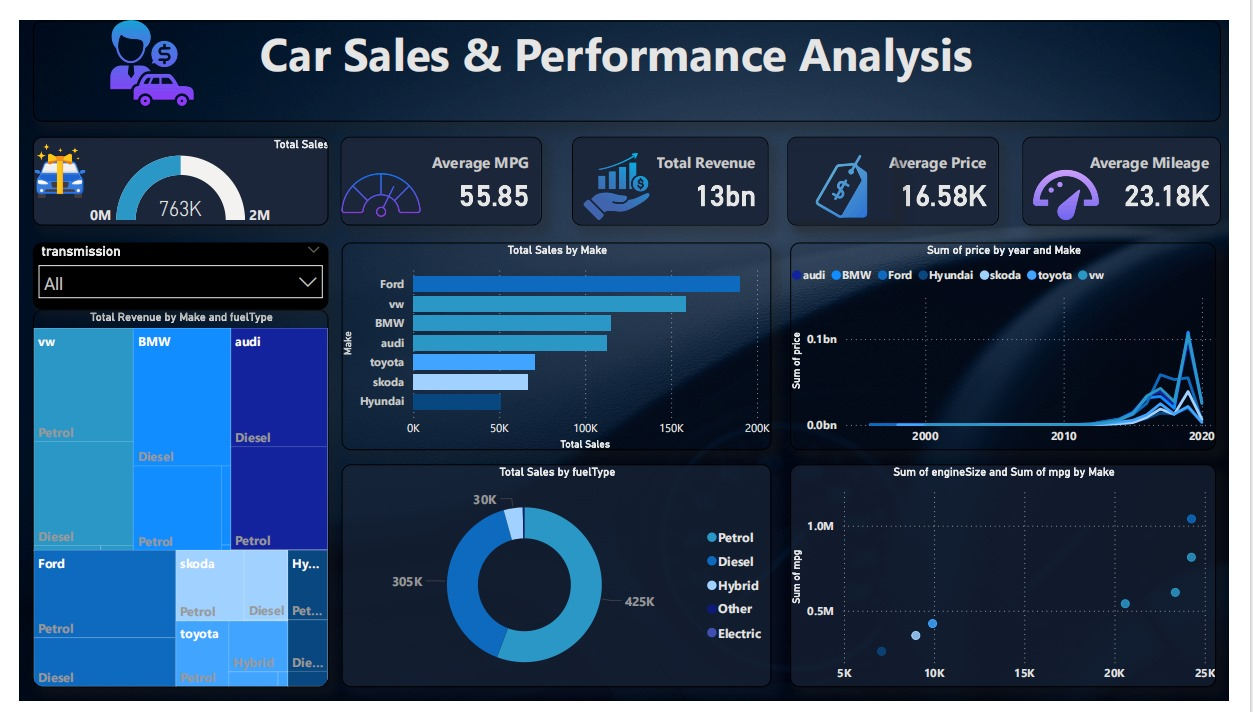

What the dashboard file says about the page in this screenshot:
{"tool":"powerbi","page":{"name":"Page 1","canvas":[1280,720],"ordinal":0},"visuals":[{"type":"barChart","fields":{"Category":["cars.Make"],"Y":["cars.Total Sales"]},"box":[340.9,235.2,455.1,219.9],"z":0},{"type":"donutChart","fields":{"Category":["cars.fuelType"],"Y":["cars.Total Sales"]},"box":[340.9,470.5,455.1,235.2],"z":1000},{"type":"lineChart","fields":{"Category":["cars.year"],"Y":["Sum(cars.price)"],"Series":["cars.Make"]},"box":[816.5,235.2,450,219.9],"z":2000},{"type":"scatterChart","fields":{"X":["Sum(cars.engineSize)"],"Y":["Sum(cars.mpg)"],"Category":["cars.Make"]},"box":[816.5,470.5,450,235.2],"z":3000},{"type":"treemap","fields":{"Values":["cars.Total Revenue"],"Details":["cars.fuelType"],"Group":["cars.Make"]},"box":[13.7,306.1,312.9,399.7],"z":4000},{"type":"gauge","fields":{"Y":["cars.Total Sales"]},"box":[13.7,123.3,312.9,93.6],"z":5000},{"type":"cardVisual","fields":{"Data":["cars.Total Revenue"]},"box":[584.7,123.3,207.8,93.6],"z":6000},{"type":"cardVisual","fields":{"Data":["cars.Average Price"]},"box":[813.1,123.3,223.8,93.6],"z":7000},{"type":"cardVisual","fields":{"Data":["cars.Average MPG"]},"box":[340.3,123.3,212.4,93.6],"z":8000},{"type":"cardVisual","fields":{"Data":["cars.Average Mileage"]},"box":[1062.1,123.3,210.1,93.6],"z":9000},{"type":"textbox","box":[13.7,0,1258.5,107.3],"z":10000},{"type":"image","box":[0,122.6,84.6,72.5],"z":11000},{"type":"image","box":[1062.3,150.3,91.5,69.1],"z":12000},{"type":"image","box":[341.4,138.7,82.3,91.4],"z":13000},{"type":"image","box":[585.3,140.2,93,71.6],"z":14000},{"type":"image","box":[813.6,139.9,112.3,72.5],"z":15000},{"type":"image","box":[13.6,0,252.3,90.3],"z":16000},{"type":"slicer","fields":{"Values":["cars.transmission"]},"box":[13.7,235.3,312.9,70.8],"z":16001}]}

Visuals, with their boxes in screenshot pixels (x1, y1, x2, y2), scaled from the page's 1280x720 canvas onto the 1253x712 screenshot:
barChart - cars.Make x cars.Total Sales: region(334, 233, 779, 450)
donutChart - cars.fuelType x cars.Total Sales: region(334, 465, 779, 698)
lineChart - cars.year x Sum(cars.price): region(799, 233, 1240, 450)
scatterChart - Sum(cars.engineSize) x Sum(cars.mpg): region(799, 465, 1240, 698)
treemap - cars.Total Revenue x cars.fuelType: region(13, 303, 320, 698)
gauge - cars.Total Sales: region(13, 122, 320, 214)
cardVisual - cars.Total Revenue: region(572, 122, 776, 214)
cardVisual - cars.Average Price: region(796, 122, 1015, 214)
cardVisual - cars.Average MPG: region(333, 122, 541, 214)
cardVisual - cars.Average Mileage: region(1040, 122, 1245, 214)
textbox: region(13, 0, 1245, 106)
image: region(0, 121, 83, 193)
image: region(1040, 149, 1129, 217)
image: region(334, 137, 415, 228)
image: region(573, 139, 664, 209)
image: region(796, 138, 906, 210)
image: region(13, 0, 260, 89)
slicer - cars.transmission: region(13, 233, 320, 303)
